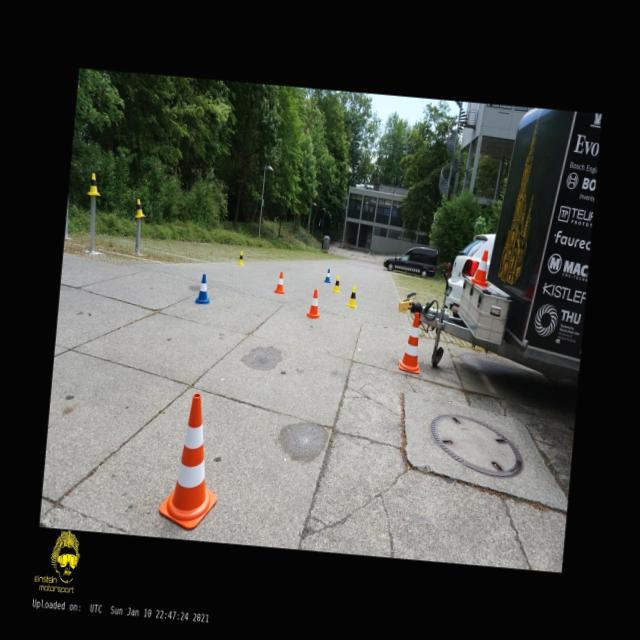blue_cone: (195, 273, 212, 304), (324, 268, 332, 282)
large_orange_cone: (156, 391, 225, 532), (398, 311, 424, 374)
orange_cone: (471, 250, 490, 286), (306, 288, 322, 319), (274, 271, 286, 294)
yellow_cone: (86, 172, 102, 196), (134, 198, 147, 218), (347, 285, 358, 308), (332, 275, 341, 293), (237, 250, 244, 264)
